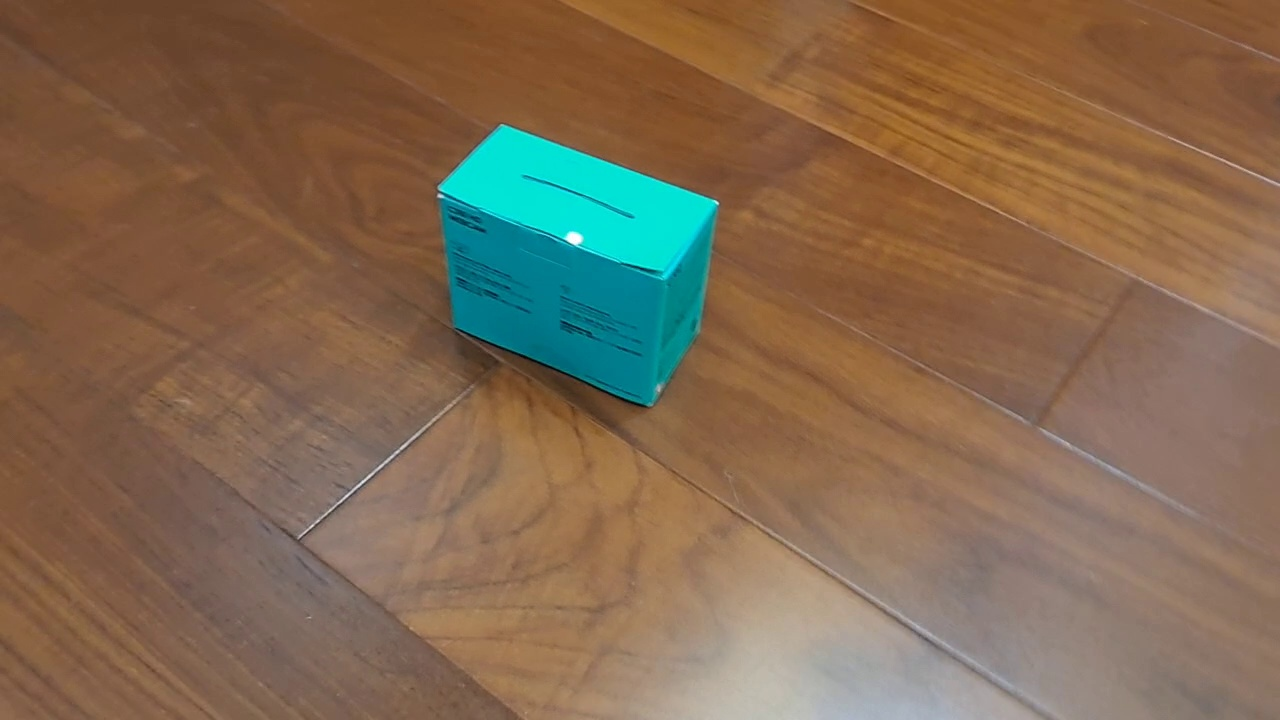webcam: (434, 122, 721, 410)
